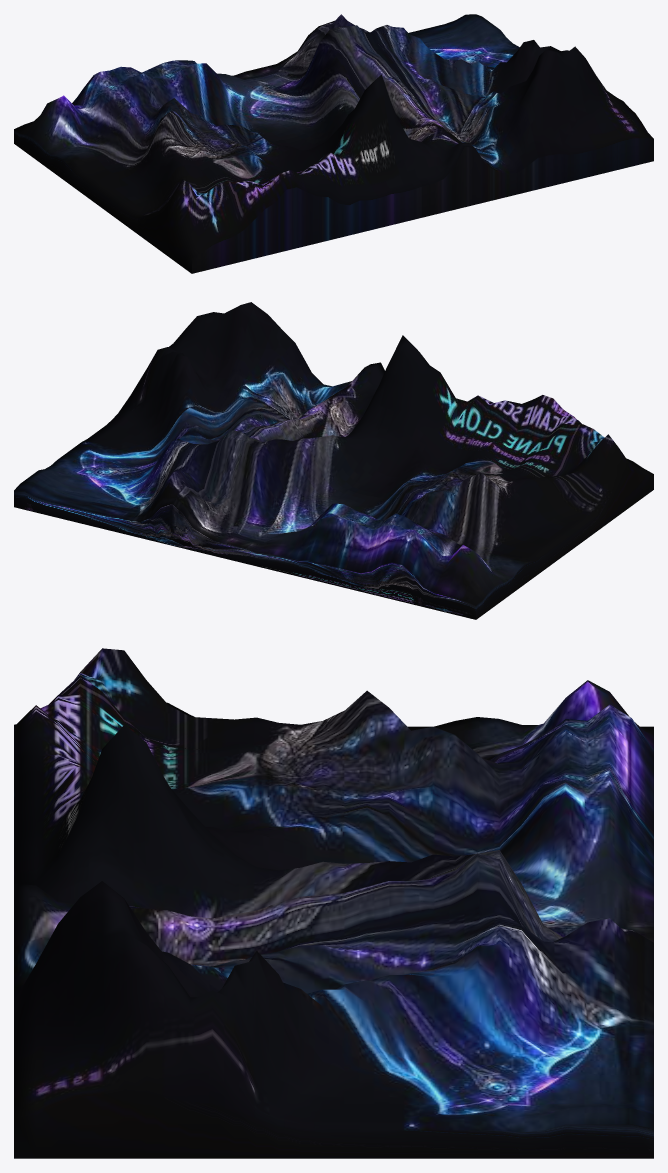
The model's file is CAREER_11_Tool_07_Cloak.glb.
The picture shows the model from 3 angles, top to bottom: view 1: azimuth 30°, elevation 25°; view 2: azimuth 150°, elevation 25°; view 3: azimuth 270°, elevation 25°; orthographic projection. The views are drawn at different scales.
Visible parts, largest first — view 1: CAREER_11_Tool_07_Cloak; view 2: CAREER_11_Tool_07_Cloak; view 3: CAREER_11_Tool_07_Cloak.
Boxes of the visible parts, x1=… form: CAREER_11_Tool_07_Cloak: x1=14, y1=14, x2=653, y2=273; CAREER_11_Tool_07_Cloak: x1=14, y1=302, x2=653, y2=619; CAREER_11_Tool_07_Cloak: x1=14, y1=648, x2=653, y2=1158.
Size of the model in its own units: 2 by 0.51 by 1.33.
Materials: 1 (1 with a texture image).
